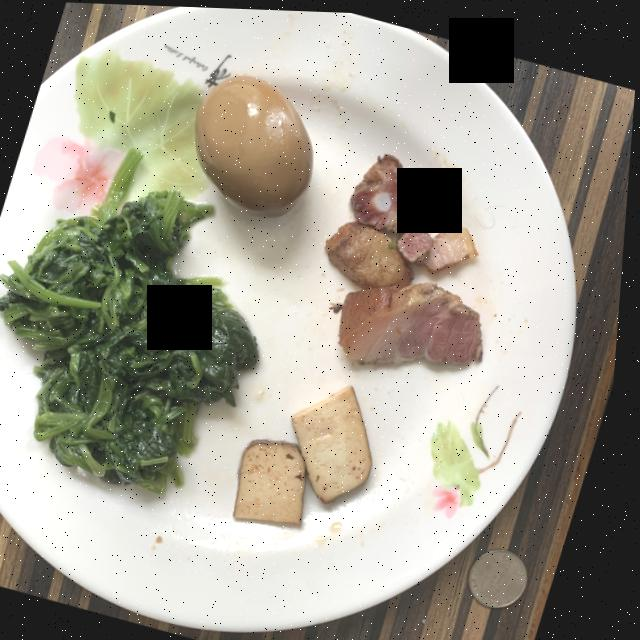coin: (477, 544, 536, 603)
firm tofu: (241, 381, 379, 521)
grilled pork: (329, 150, 487, 360)
mustard greens: (0, 146, 264, 491)
soy egg: (196, 72, 315, 214)
